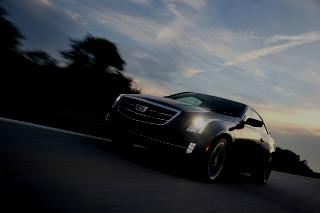cadillac: (132, 101, 150, 114)
